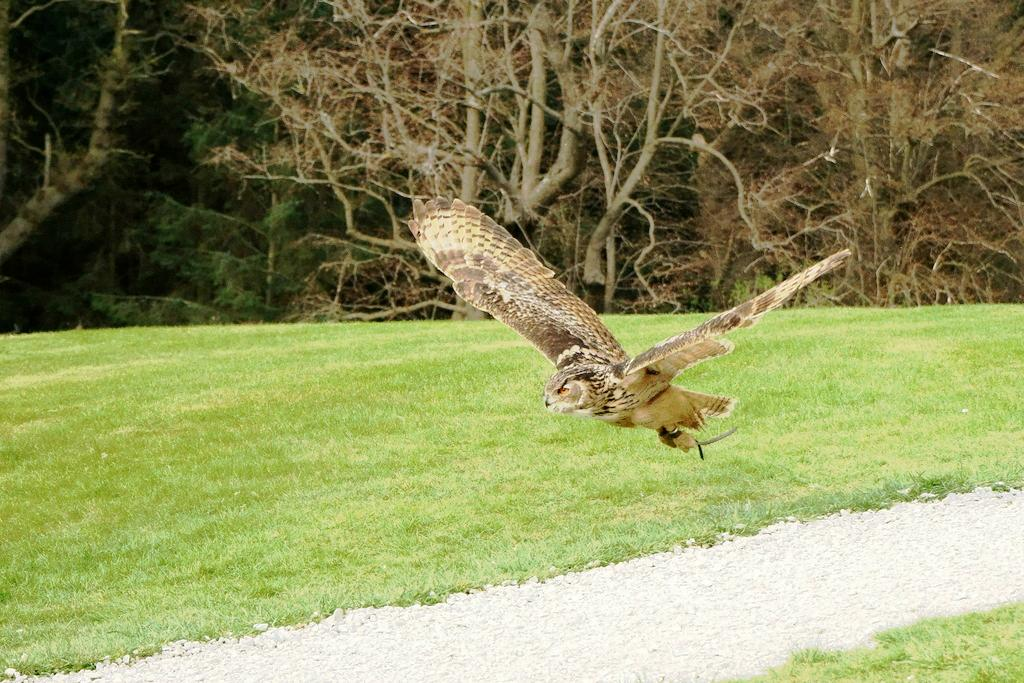Owl: (410, 199, 854, 466)
